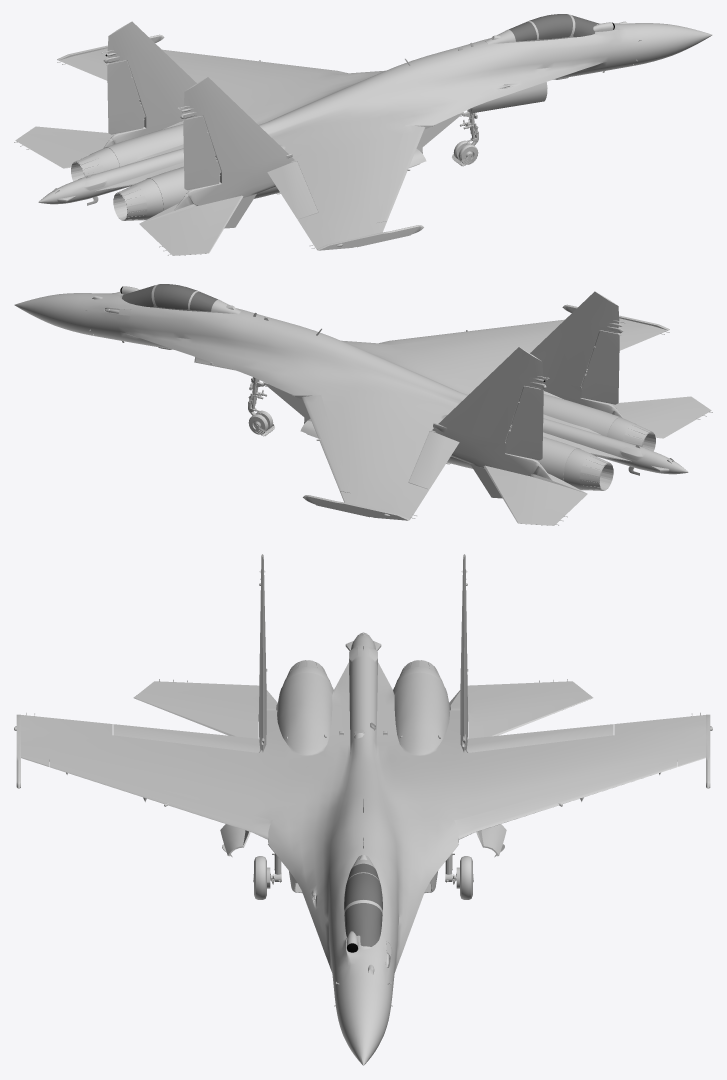
The model's file is su35_train.fbx.
3 views of the same model, one above another, from view 1: azimuth 30°, elevation 25°; view 2: azimuth 150°, elevation 25°; view 3: azimuth 270°, elevation 25° (orthographic). The views are drawn at different scales.
Visible parts, largest first — view 1: chassis, aileron_d, aileron_g, rudder_1, rudder_2, SU-35-landingOn, SU-35canopy; view 2: chassis, aileron_g, aileron_d, rudder_2, rudder_1, SU-35canopy, SU-35-landingOn; view 3: chassis, aileron_d, aileron_g, SU-35-landingOn, SU-35canopy.
Part boxes in pixels (bbox=[...]): chassis: bbox=[38, 14, 712, 250]; aileron_d: bbox=[139, 195, 243, 255]; aileron_g: bbox=[14, 126, 116, 168]; rudder_1: bbox=[107, 60, 145, 134]; rudder_2: bbox=[183, 116, 221, 190]; SU-35-landingOn: bbox=[408, 82, 547, 168]; SU-35canopy: bbox=[509, 14, 599, 41]; chassis: bbox=[14, 284, 688, 520]; aileron_g: bbox=[483, 465, 587, 525]; aileron_d: bbox=[610, 396, 712, 438]; rudder_2: bbox=[581, 330, 619, 404]; rudder_1: bbox=[505, 386, 543, 460]; SU-35canopy: bbox=[122, 284, 217, 311]; SU-35-landingOn: bbox=[194, 357, 318, 438]; chassis: bbox=[14, 554, 712, 1065]; aileron_d: bbox=[133, 679, 277, 738]; aileron_g: bbox=[449, 679, 593, 738]; SU-35-landingOn: bbox=[220, 824, 506, 899]; SU-35canopy: bbox=[344, 863, 382, 946].
Size of the model in its own units: 21.22 by 14.34 by 5.96.
